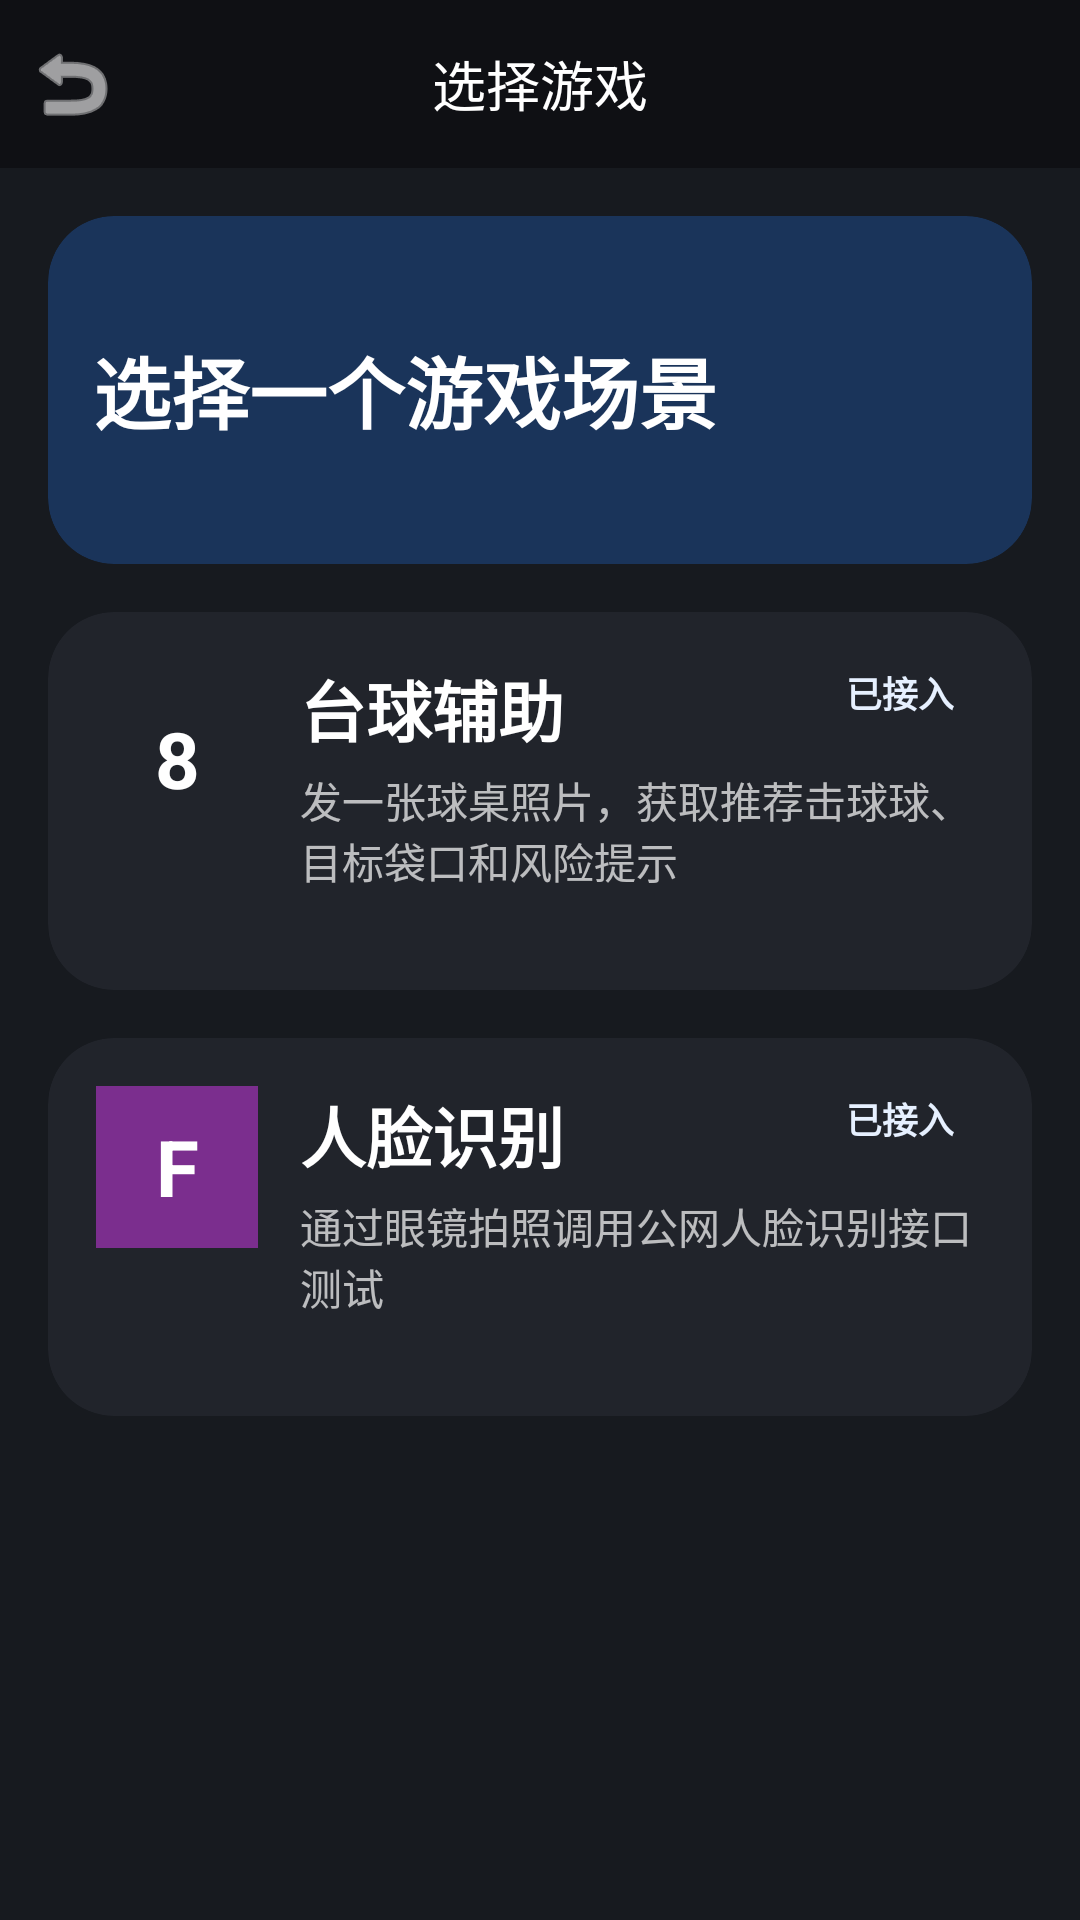

Screen size 1080×1920. Icon name, then its center in pixels as [x,y]:
revert: [73,84]
